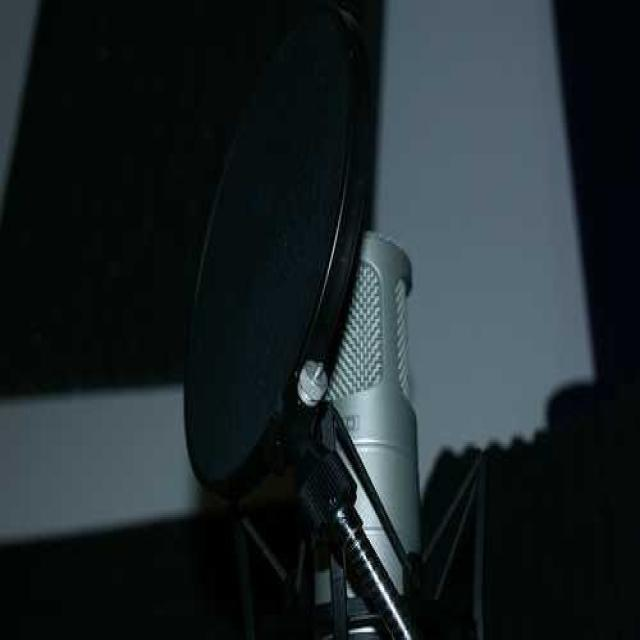microphone: (324, 216, 452, 635)
